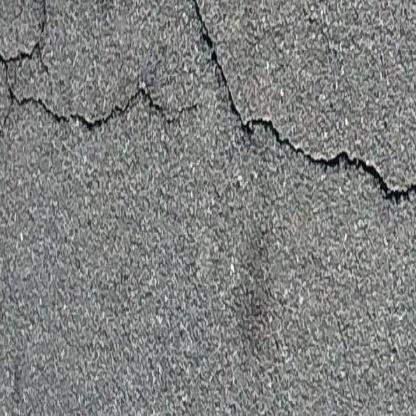Cracks: (167, 0, 416, 217), (0, 85, 248, 142), (0, 35, 56, 191), (19, 0, 269, 23)
